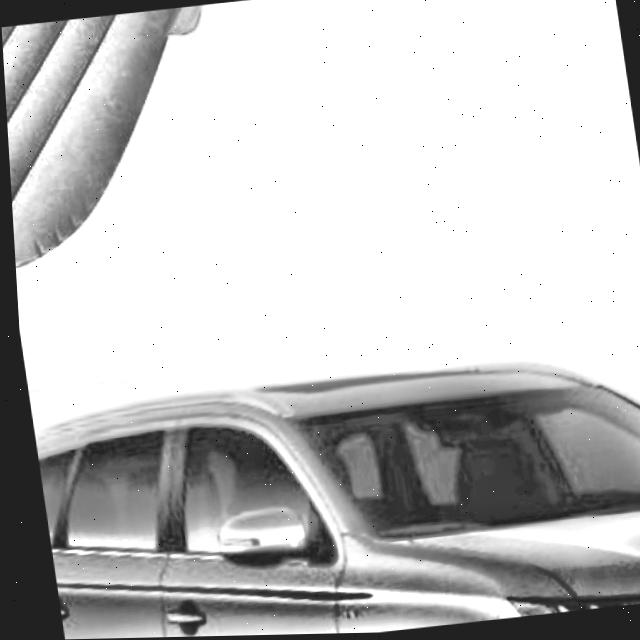light_vehicle: (22, 343, 640, 640)
